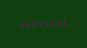five: (59, 19, 64, 26)
four: (17, 21, 22, 29)
six: (23, 21, 28, 28)
three: (35, 20, 40, 28), (53, 19, 58, 27)
two: (29, 20, 34, 28), (47, 19, 52, 27), (41, 20, 46, 27)
